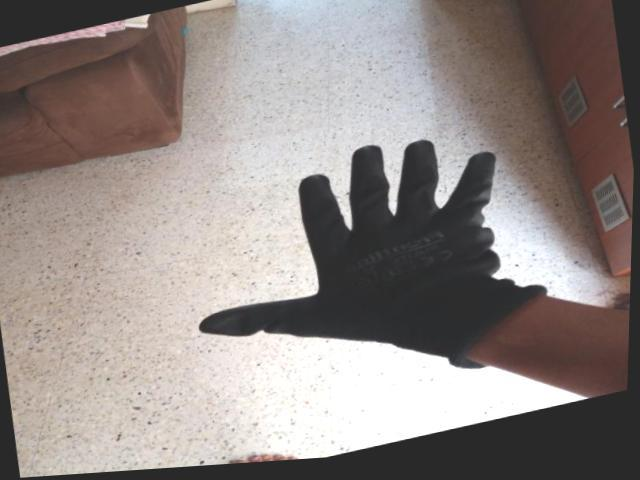Hand-in-Glove: (132, 109, 602, 452)
